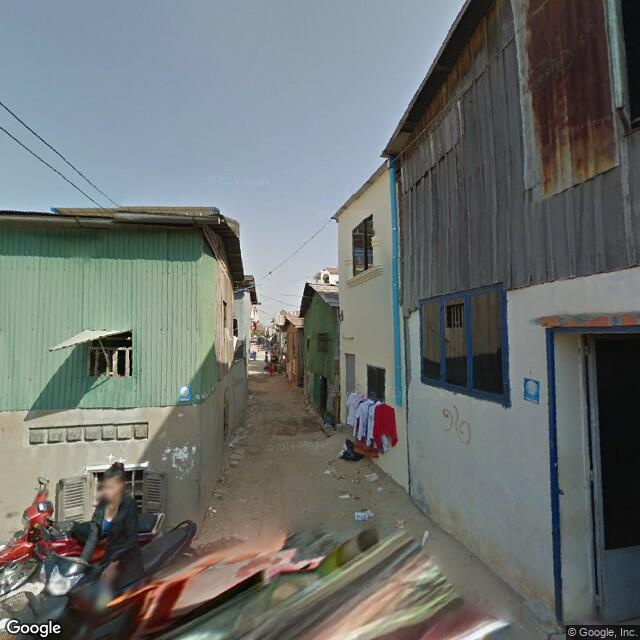litter: (355, 471, 388, 490), (419, 526, 435, 554), (204, 502, 221, 520), (353, 508, 372, 524), (392, 514, 407, 533), (335, 488, 355, 502), (322, 463, 335, 482)
